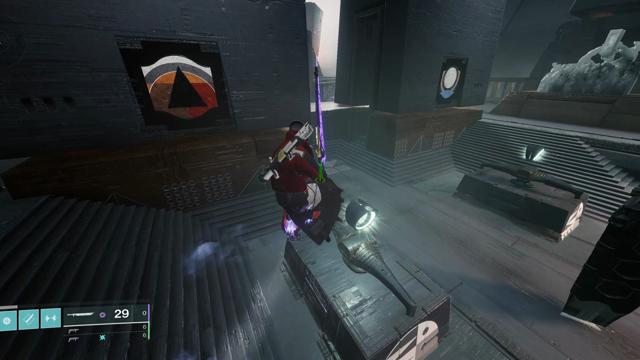pyramid: (140, 55, 219, 119)
traveler: (438, 66, 461, 100)
